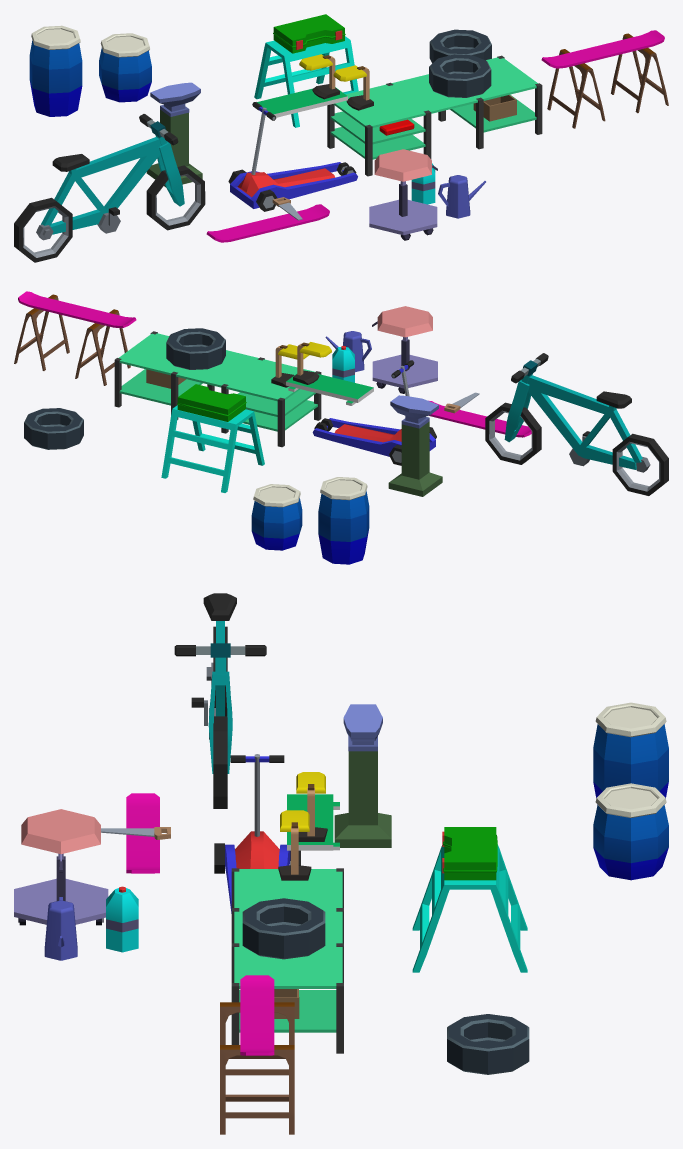
File: Level15.fbx
The picture shows the model from 3 angles, top to bottom: view 1: azimuth 30°, elevation 25°; view 2: azimuth 150°, elevation 25°; view 3: azimuth 270°, elevation 25°; orthographic projection. The views are drawn at different scales.
Parts seen in each view (by area): view 1: Tools_table, Cycle_Body, Oil_Drum, Scotty, Oil_Drum1, Stool_Stand1, Iron_Stand, Tire25, Seat_stand, Box16, Plane2, Plane4 (+12 smaller); view 2: Tools_table, Cycle_Body, Oil_Drum, Iron_Stand, Stool_Stand1, Oil_Drum1, Scotty, Tire, Tire25, Seat_stand, Box16, Plane2 (+11 smaller); view 3: Tools_table, Oil_Drum1, Oil_Drum, Iron_Stand, Tire25, Tire, Stool_Stand1, Cycle_Body, Seat_stand, Box16, Seat, Scotty (+10 smaller).
Part boxes in pixels (<box>): Tools_table: <box>327,55,542,176</box>; Cycle_Body: <box>36,114,184,240</box>; Oil_Drum: <box>29,25,82,116</box>; Scotty: <box>230,102,357,208</box>; Oil_Drum1: <box>99,33,151,102</box>; Stool_Stand1: <box>254,36,358,127</box>; Iron_Stand: <box>146,82,202,187</box>; Tire25: <box>429,54,491,97</box>; Seat_stand: <box>369,184,437,239</box>; Box16: <box>273,14,345,53</box>; Plane2: <box>541,30,664,68</box>; Plane4: <box>206,204,329,242</box>; Tools_table: <box>114,331,321,447</box>; Cycle_Body: <box>504,353,650,472</box>; Oil_Drum: <box>318,477,369,564</box>; Iron_Stand: <box>388,395,442,496</box>; Stool_Stand1: <box>161,405,264,492</box>; Oil_Drum1: <box>251,484,302,550</box>; Scotty: <box>312,360,435,456</box>; Tire: <box>24,408,83,449</box>; Tire25: <box>166,328,225,369</box>; Seat_stand: <box>372,339,437,392</box>; Box16: <box>177,384,246,421</box>; Plane2: <box>18,291,136,328</box>; Tools_table: <box>231,868,343,1053</box>; Oil_Drum1: <box>593,783,668,880</box>; Oil_Drum: <box>593,702,668,804</box>; Iron_Stand: <box>334,704,391,847</box>; Tire25: <box>242,898,325,959</box>; Tire: <box>447,1014,529,1074</box>; Stool_Stand1: <box>412,844,527,972</box>; Cycle_Body: <box>174,593,266,773</box>; Seat_stand: <box>14,856,108,924</box>; Box16: <box>442,827,497,880</box>; Seat: <box>21,809,100,872</box>; Scotty: <box>225,754,290,913</box>.
Bounding box in the file's own units: 22.72 × 3.66 × 14.14.
